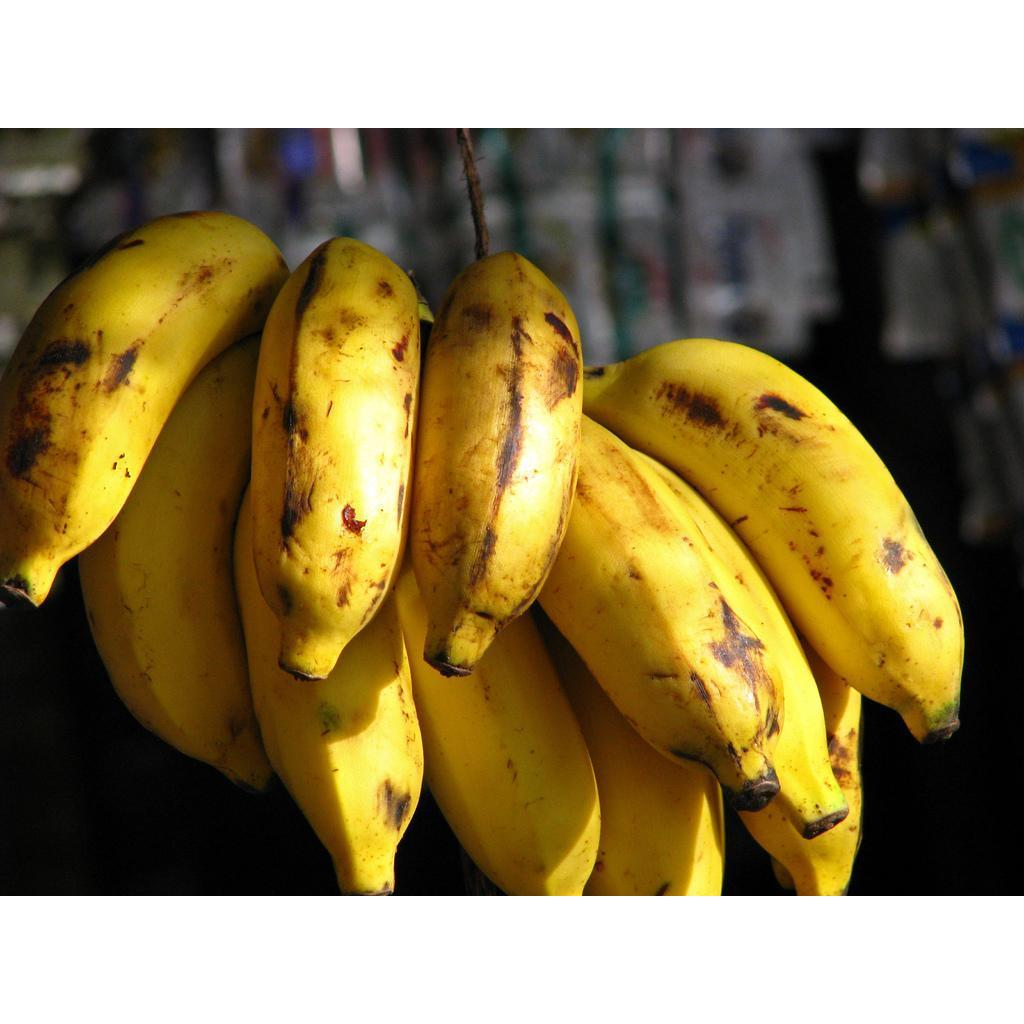banana: (582, 338, 967, 746), (0, 212, 288, 605), (537, 417, 794, 811), (81, 335, 281, 794), (233, 484, 429, 896), (409, 247, 590, 684), (254, 238, 413, 687), (404, 586, 596, 896), (524, 608, 729, 896)
